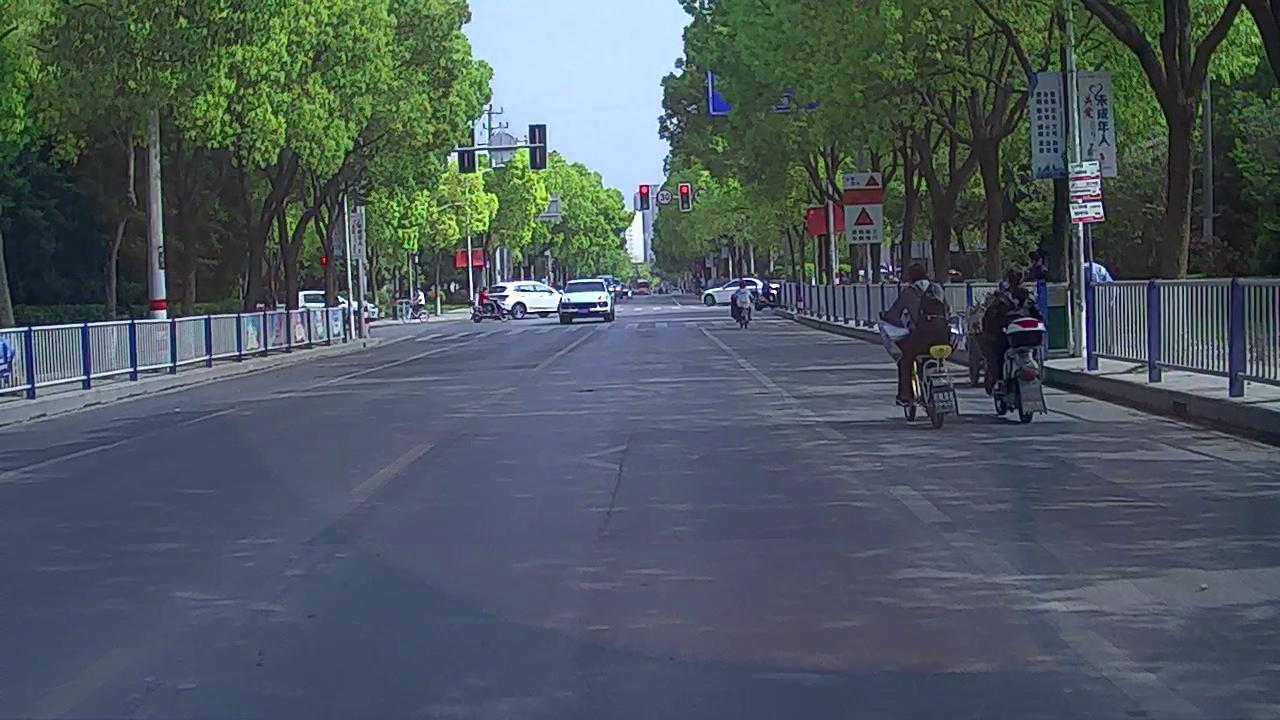traffic_light: (680, 183, 690, 210), (640, 185, 649, 209)
